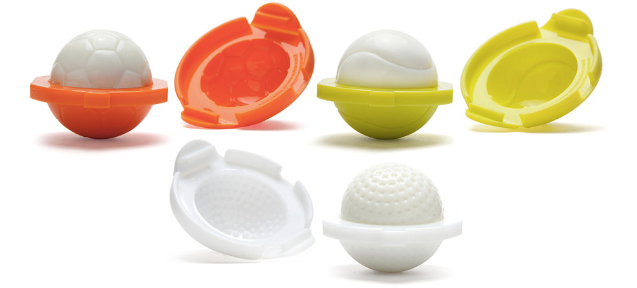ball: (20, 18, 173, 147), (316, 15, 458, 143), (319, 152, 453, 281)
